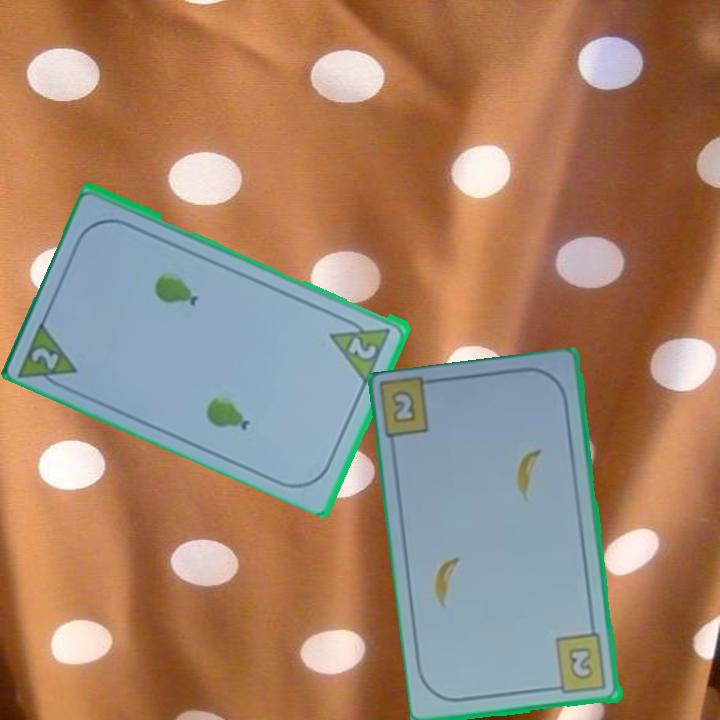2b: (548, 631, 610, 697), (387, 386, 420, 427)
2p: (345, 333, 380, 362), (28, 343, 63, 372)
